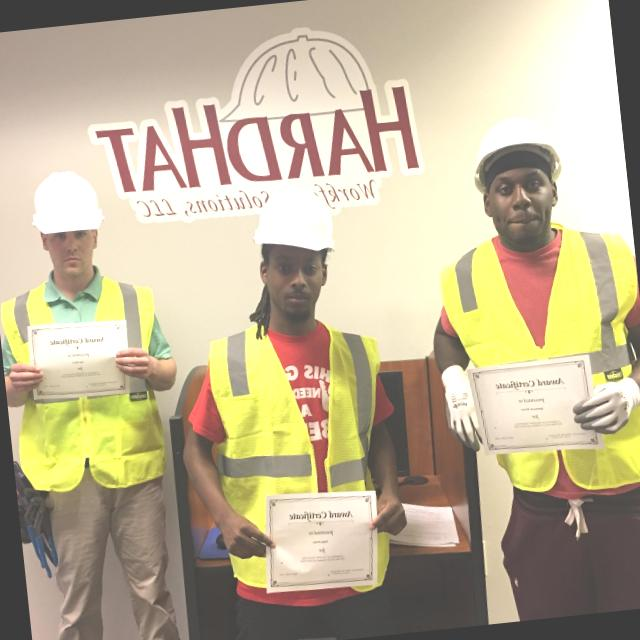helmet: (451, 90, 578, 190), (238, 179, 346, 265), (7, 162, 115, 247)
no-goggles: (470, 160, 570, 212), (240, 246, 344, 286), (28, 225, 112, 258)
vest: (427, 211, 640, 514), (182, 310, 405, 596), (0, 256, 171, 520)
